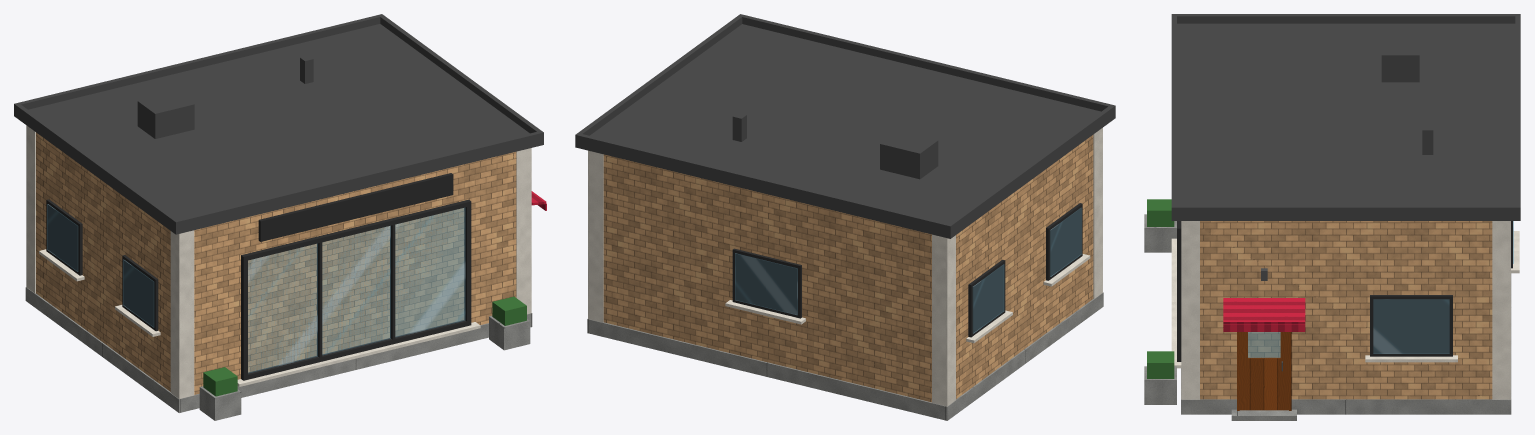
File: shop_small_variant_a.glb
The picture shows the model from 3 angles, left to right: view 1: azimuth 30°, elevation 25°; view 2: azimuth 150°, elevation 25°; view 3: azimuth 270°, elevation 25°; orthographic projection. The views are drawn at different scales.
Visible parts, largest first — view 1: flat_4A4A4A, brick_wall_D4A574, glass_87CEEB, flat_2C2C2C, plaster_F2EBDD, concrete_9A9A96, flat_3F7D3A; view 2: brick_wall_D4A574, flat_4A4A4A, plaster_F2EBDD, concrete_9A9A96, flat_2C2C2C, glass_87CEEB; view 3: flat_4A4A4A, brick_wall_D4A574, plaster_F2EBDD, concrete_9A9A96, flat_2C2C2C, glass_87CEEB, wood_door_8B4513, awning_fabric_C41E3A, flat_3F7D3A.
Part boxes in pixels (left/top/right/bottom): flat_4A4A4A: left=14, top=14, right=543, bottom=234; brick_wall_D4A574: left=36, top=132, right=516, bottom=394; glass_87CEEB: left=47, top=204, right=465, bottom=373; flat_2C2C2C: left=46, top=173, right=471, bottom=380; plaster_F2EBDD: left=26, top=125, right=531, bottom=398; concrete_9A9A96: left=25, top=287, right=532, bottom=420; flat_3F7D3A: left=203, top=296, right=526, bottom=396; brick_wall_D4A574: left=603, top=135, right=1093, bottom=402; flat_4A4A4A: left=575, top=14, right=1115, bottom=238; plaster_F2EBDD: left=588, top=128, right=1102, bottom=406; concrete_9A9A96: left=587, top=292, right=1103, bottom=420; flat_2C2C2C: left=732, top=203, right=1082, bottom=337; glass_87CEEB: left=735, top=208, right=1081, bottom=333; flat_4A4A4A: left=1171, top=14, right=1520, bottom=220; brick_wall_D4A574: left=1200, top=221, right=1492, bottom=399; plaster_F2EBDD: left=1171, top=221, right=1519, bottom=399; concrete_9A9A96: left=1144, top=214, right=1511, bottom=420; flat_2C2C2C: left=1177, top=221, right=1512, bottom=361; glass_87CEEB: left=1248, top=221, right=1513, bottom=357; wood_door_8B4513: left=1237, top=332, right=1291, bottom=410; awning_fabric_C41E3A: left=1223, top=298, right=1305, bottom=331; flat_3F7D3A: left=1147, top=199, right=1174, bottom=378.
Bounding box in the file's own units: 9.02 × 4.67 × 6.9.
10 materials, 10 textured.
